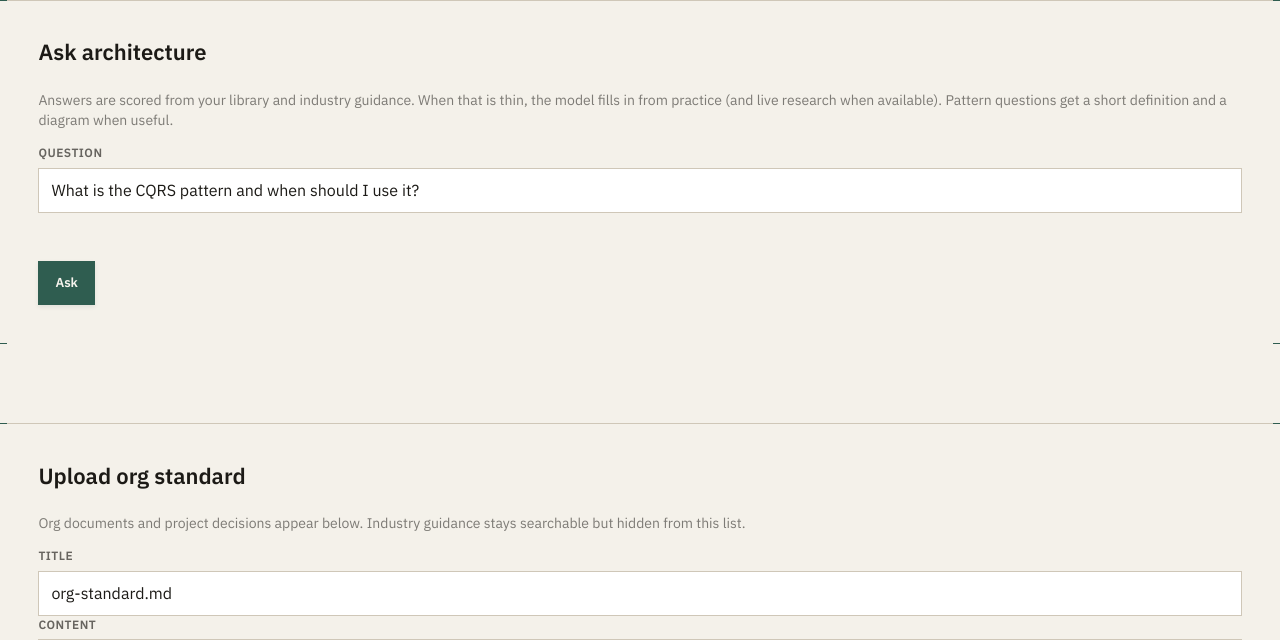
Test: KnowledgeClient grounding › shows an ungrounded warning for model fallbacks
Click the button "Ask".
click(67, 283)  # box [38, 261, 95, 305]
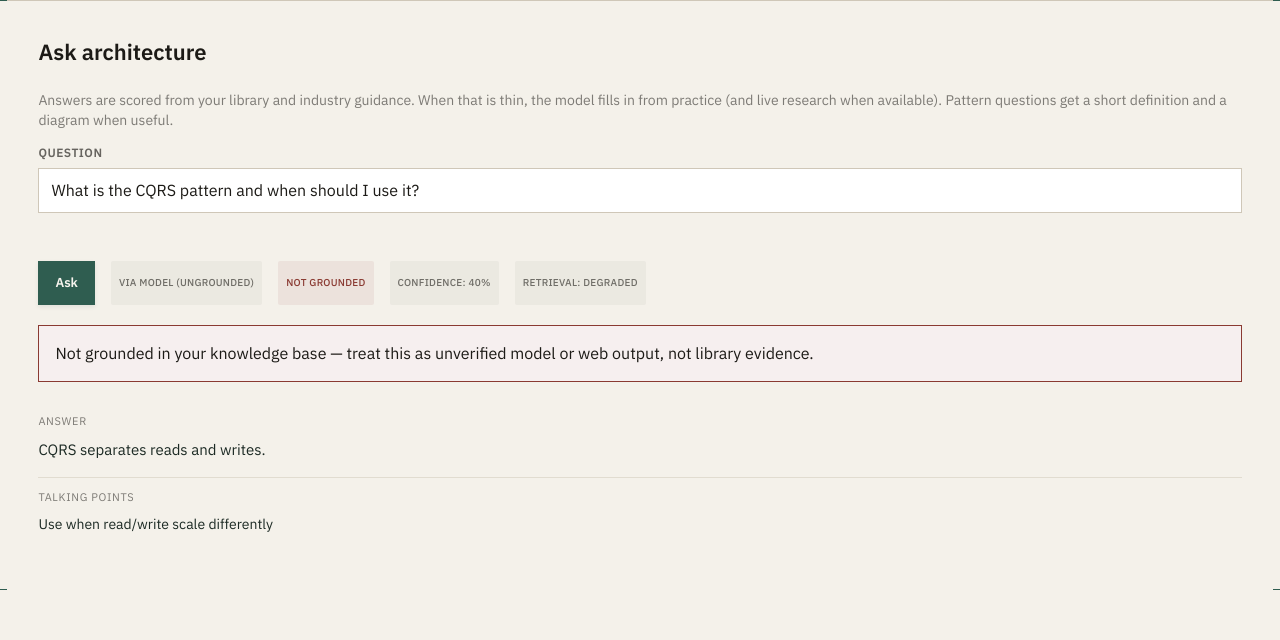
Expected: the text "Not grounded in your knowledge base" is shown, [55, 343, 814, 363]
Expected: the text "via model (ungrounded)" is shown, [111, 261, 262, 305]
